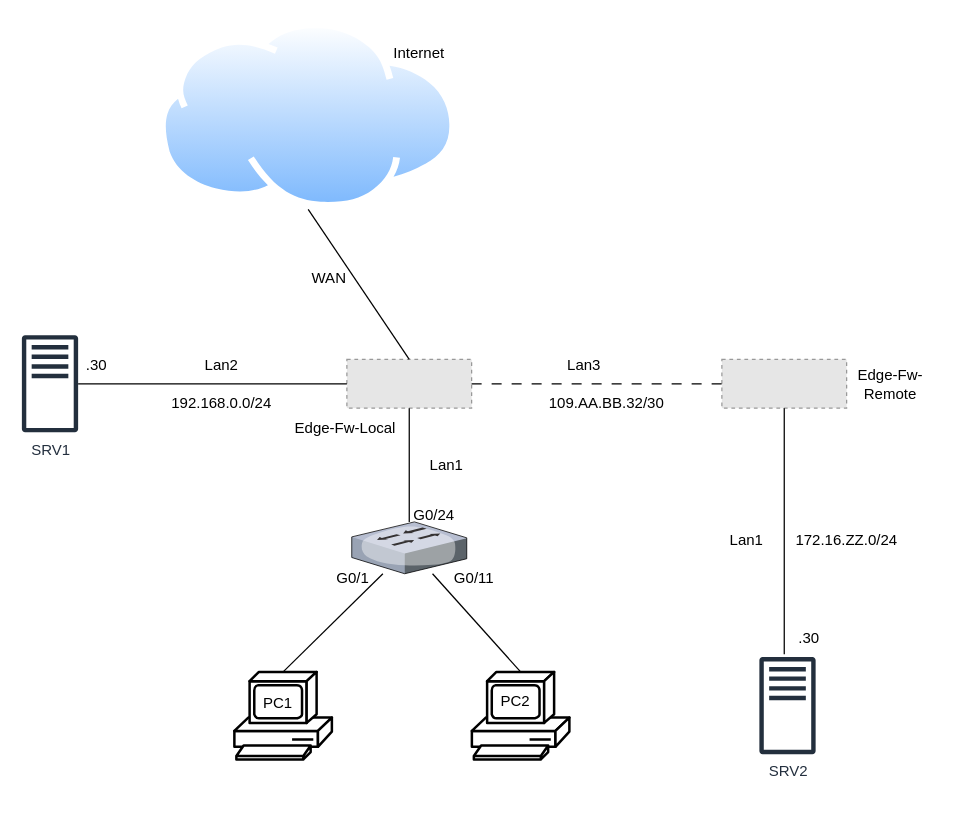
This 968x825 diagram has some shape labels left out. Grey dashed boxes stand in for pictures. The box of each missing label's shape, as (x1, y1, x2, y2) in pixels:
10.0.XX.10/24 VLANXX: (232, 670, 332, 760)
10.0.YY.10/24 VLANYY: (470, 670, 570, 760)
